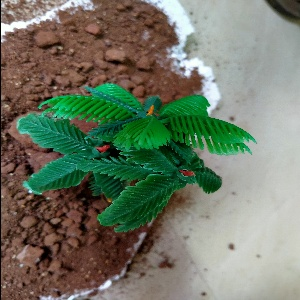plant: (18, 87, 235, 233)
